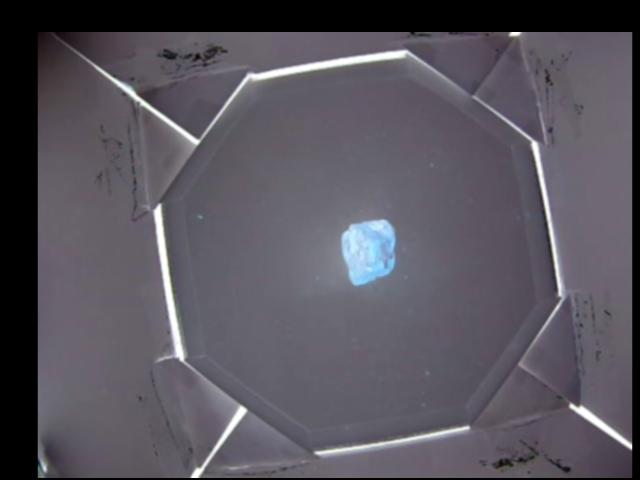Brisk: (344, 219, 395, 285)
